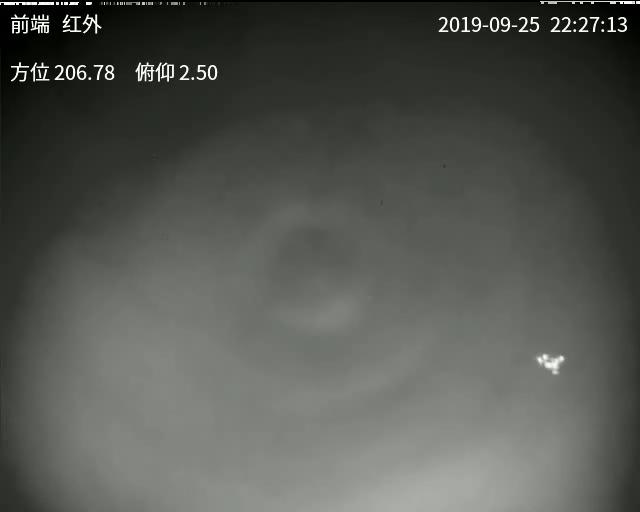uav: (522, 350, 555, 377)
